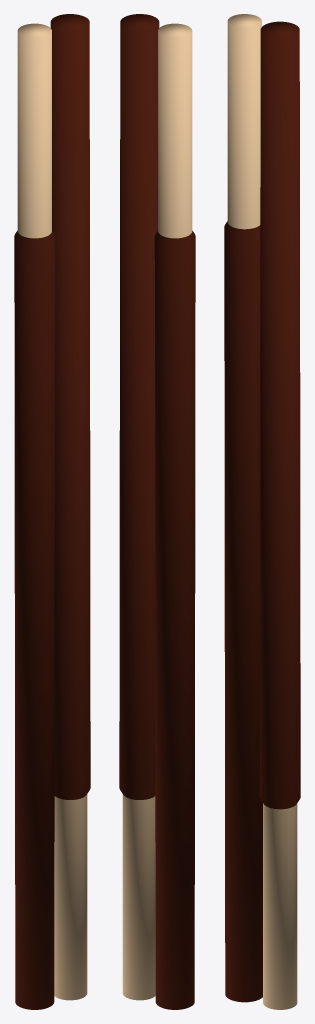
Rendered from pocky_2.fbx.
The picture shows the model from 3 angles, left to right: view 1: azimuth 30°, elevation 25°; view 2: azimuth 150°, elevation 25°; view 3: azimuth 330°, elevation 25°; orthographic projection.
Visible parts, largest first — view 1: 円柱.003; view 2: 円柱.003; view 3: 円柱.003.
Boxes of the visible parts, x1,y1,x2,y2 form: 円柱.003: (14,14,90,1009); 円柱.003: (119,14,195,1009); 円柱.003: (224,14,300,1009).
Size of the model in its own units: 3.44 by 45.14 by 1.72.
